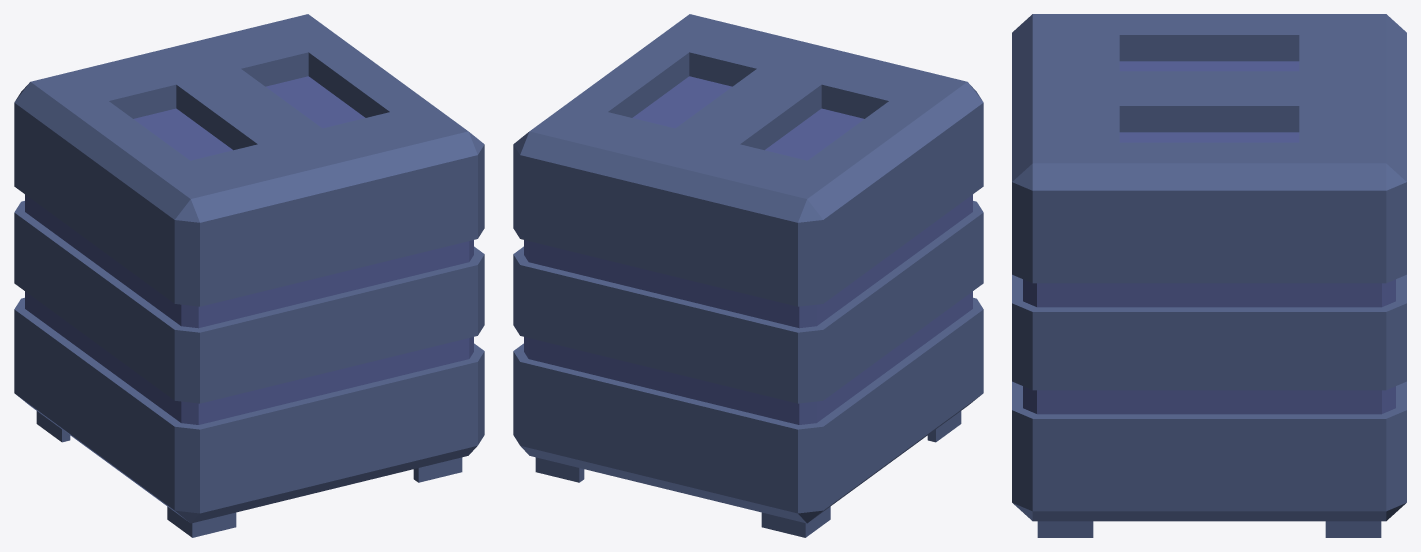
File: Cube_023_geometry-panic-factory_001.fbx
3 renders of one model, left to right at view 1: azimuth 30°, elevation 25°; view 2: azimuth 150°, elevation 25°; view 3: azimuth 270°, elevation 25°, orthographic. The views are drawn at different scales.
Parts seen in each view (by area): view 1: Cube.023.geometry-panic-factory.001; view 2: Cube.023.geometry-panic-factory.001; view 3: Cube.023.geometry-panic-factory.001.
Part boxes in pixels (x1,y1,x2,y2): Cube.023.geometry-panic-factory.001: (14,14,484,537); Cube.023.geometry-panic-factory.001: (513,14,983,537); Cube.023.geometry-panic-factory.001: (1012,14,1406,537).
Bounding box in the file's own units: 0.95 × 1 × 0.95.
